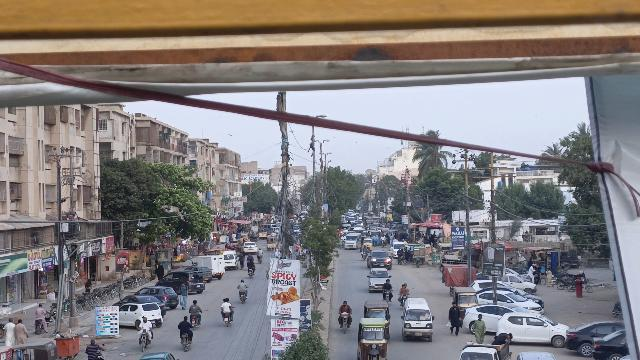Bike: (136, 330, 151, 352), (337, 313, 353, 332), (178, 334, 193, 353), (221, 311, 235, 328), (33, 317, 45, 336), (189, 313, 199, 330), (239, 289, 247, 306), (384, 290, 392, 302), (400, 295, 408, 307)
Car: (495, 311, 570, 347), (462, 301, 524, 336), (564, 321, 622, 357), (118, 300, 162, 330), (157, 271, 206, 294), (590, 328, 625, 360), (136, 284, 180, 309), (366, 267, 391, 292)
Person: (447, 301, 463, 337), (469, 314, 487, 342), (1, 315, 16, 347), (15, 316, 29, 347), (176, 281, 190, 310), (84, 337, 100, 360), (179, 315, 192, 334), (139, 313, 152, 331), (338, 299, 352, 315), (189, 298, 201, 315), (34, 300, 46, 316), (222, 296, 232, 314), (237, 277, 248, 293), (382, 278, 395, 291), (399, 282, 410, 297)
Rickshaw: (355, 316, 389, 360), (363, 298, 393, 339), (453, 286, 478, 323)
Suzuki: (459, 333, 514, 360)
Truck: (194, 254, 226, 280)
Van: (400, 295, 436, 346)
